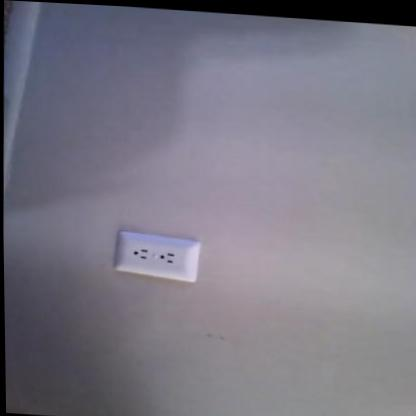OUTLET: (114, 228, 200, 282)
